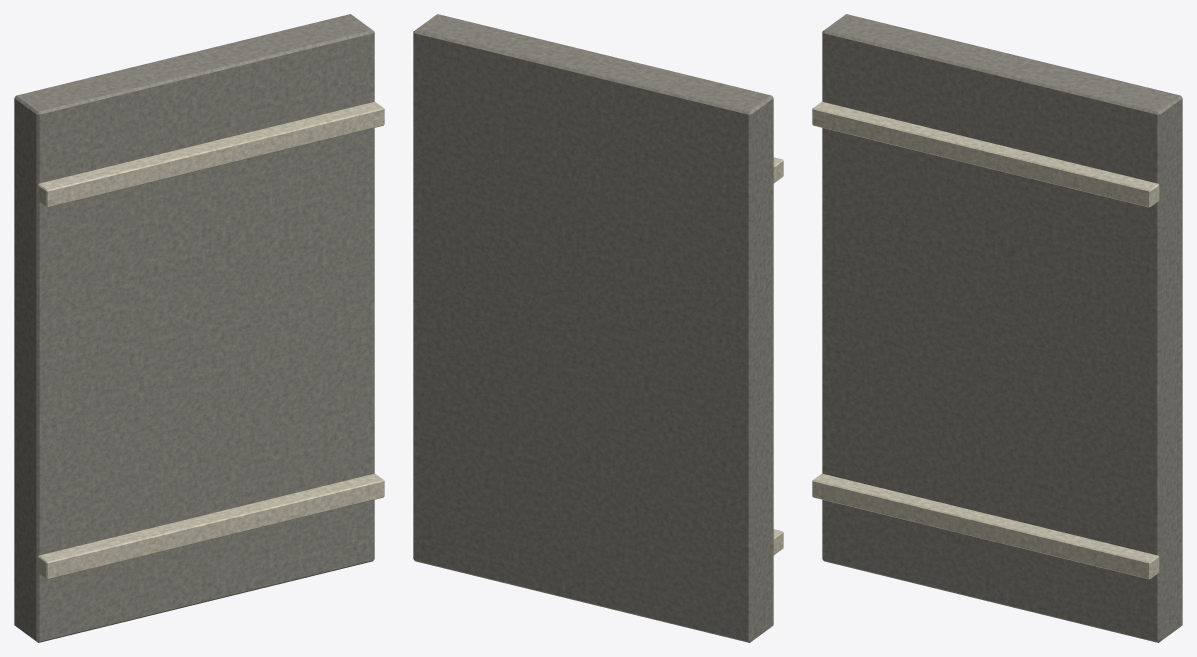
Rendered from TUNN22CC_lod1.glb.
3 renders of one model, left to right at view 1: azimuth 30°, elevation 25°; view 2: azimuth 150°, elevation 25°; view 3: azimuth 330°, elevation 25°, orthographic.
Visible parts, largest first — view 1: TUNN22CC_LOD1; view 2: TUNN22CC_LOD1; view 3: TUNN22CC_LOD1.
Boxes of the visible parts, <box> form: TUNN22CC_LOD1: <box>14,14,384,642</box>; TUNN22CC_LOD1: <box>413,14,783,642</box>; TUNN22CC_LOD1: <box>812,14,1182,642</box>.
Size of the model in its own units: 2 by 3 by 0.345.
2 materials, 2 textured.
